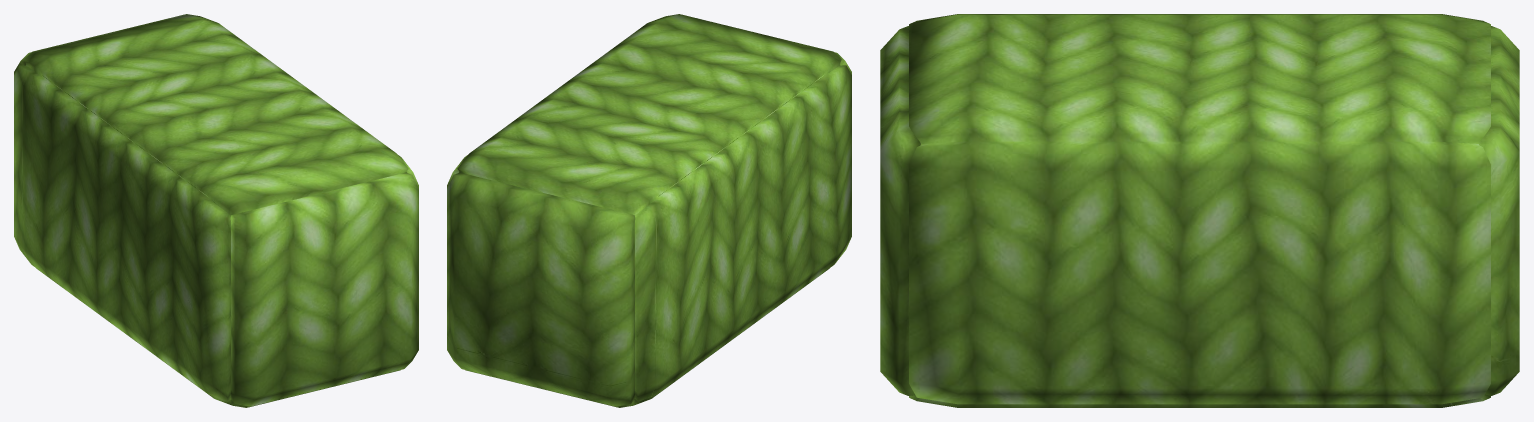
The model's file is yarnboxv2.fbx.
3 views of the same model, side by side, from view 1: azimuth 30°, elevation 25°; view 2: azimuth 150°, elevation 25°; view 3: azimuth 270°, elevation 25° (orthographic). The views are drawn at different scales.
Parts seen in each view (by area): view 1: Cube; view 2: Cube; view 3: Cube.
Part boxes in pixels (<box>): Cube: <box>14,14,418,407</box>; Cube: <box>447,14,851,407</box>; Cube: <box>880,14,1519,407</box>.
Size of the model in its own units: 100 by 100 by 200.
